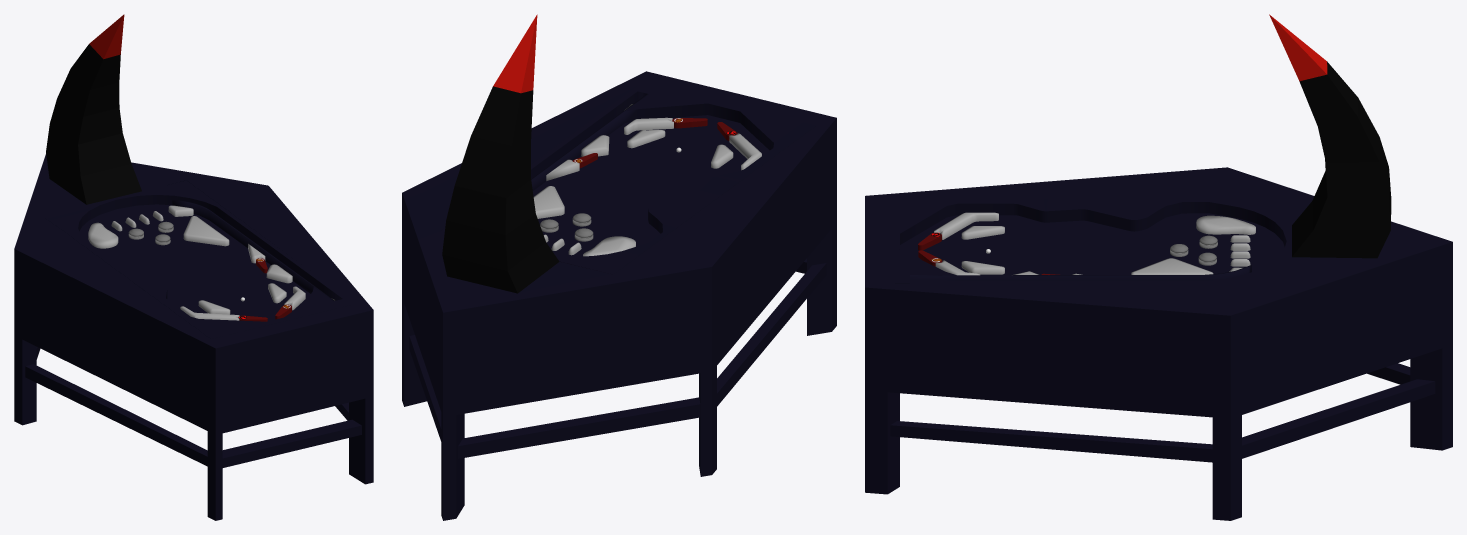
File: Export Flipperkast 3.FBX
3 views of the same model, side by side, from view 1: azimuth 30°, elevation 25°; view 2: azimuth 150°, elevation 25°; view 3: azimuth 270°, elevation 25° (orthographic). The views are drawn at different scales.
Parts seen in each view (by area): view 1: Flipperkast, Playfield, Slingshot top right, Obstacle top left; view 2: Flipperkast, Playfield, Slingshot top right, Obstacle top left, obstacle lower right, Obstacle lower left; view 3: Flipperkast, Playfield, Obstacle top left, Slingshot top right, Obstacle lower left.
Boxes of the visible parts, left/top/right/bottom form: Flipperkast: left=14, top=14, right=373, bottom=520; Playfield: left=42, top=180, right=354, bottom=338; Slingshot top right: left=183, top=216, right=229, bottom=246; Obstacle top left: left=88, top=222, right=118, bottom=248; Flipperkast: left=402, top=14, right=836, bottom=520; Playfield: left=439, top=83, right=816, bottom=274; Slingshot top right: left=533, top=186, right=564, bottom=218; Obstacle top left: left=583, top=236, right=635, bottom=256; obstacle lower right: left=624, top=117, right=673, bottom=134; Obstacle lower left: left=729, top=133, right=761, bottom=170; Flipperkast: left=865, top=14, right=1452, bottom=520; Playfield: left=890, top=199, right=1291, bottom=283; Obstacle top left: left=1196, top=215, right=1255, bottom=234; Slingshot top right: left=1131, top=258, right=1213, bottom=274; Obstacle lower left: left=934, top=212, right=998, bottom=239.
Size of the model in its own units: 23.97 by 32.6 by 40.15.
